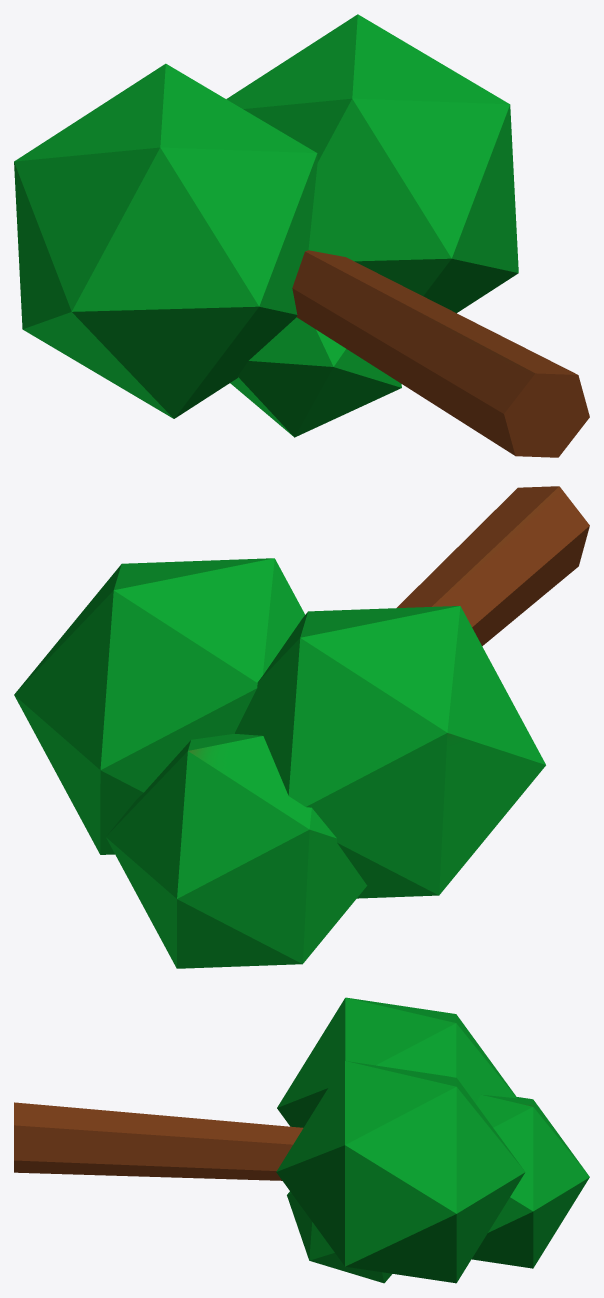
Rendered from Tree.fbx.
The picture shows the model from 3 angles, top to bottom: view 1: azimuth 30°, elevation 25°; view 2: azimuth 150°, elevation 25°; view 3: azimuth 270°, elevation 25°; orthographic projection. The views are drawn at different scales.
Parts seen in each view (by area): view 1: tree 4; view 2: tree 4; view 3: tree 4.
Boxes of the visible parts, x1,y1,x2,y2 form: tree 4: [14, 14, 589, 457]; tree 4: [14, 486, 589, 968]; tree 4: [14, 997, 589, 1283].
Bounding box in the file's own units: 1477 × 977 × 2263.
1 material, 1 textured.
